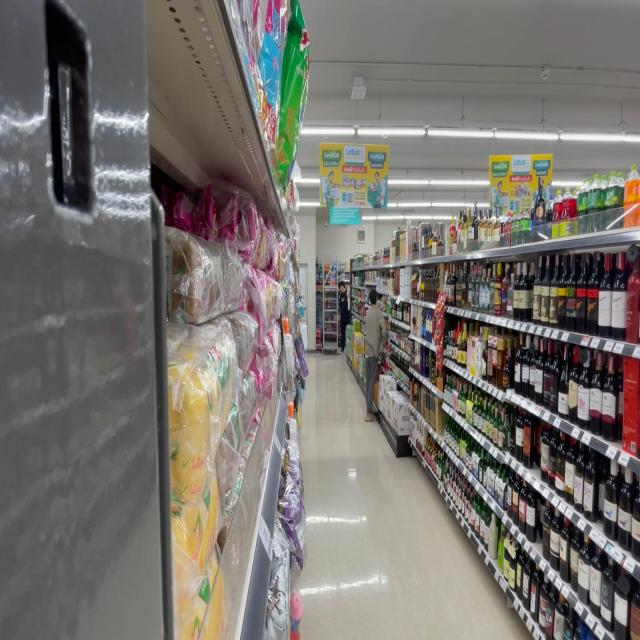shoplifting: (363, 285, 388, 421)
